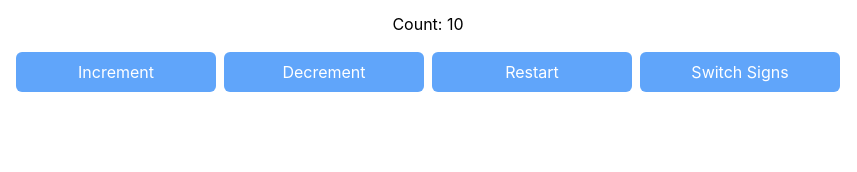
check buttons › switches signs of count when 'Switch Signs' button is clicked
This screenshot has width=857, height=172.
Step 1. Click the button "Switch Signs" → x=740, y=72, box [640, 52, 840, 92]
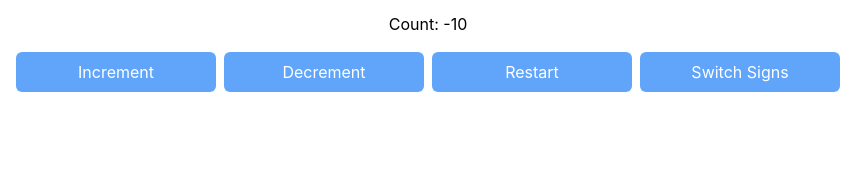
Expected: the text with test id "count" reads "-10", [443, 14, 467, 34]
